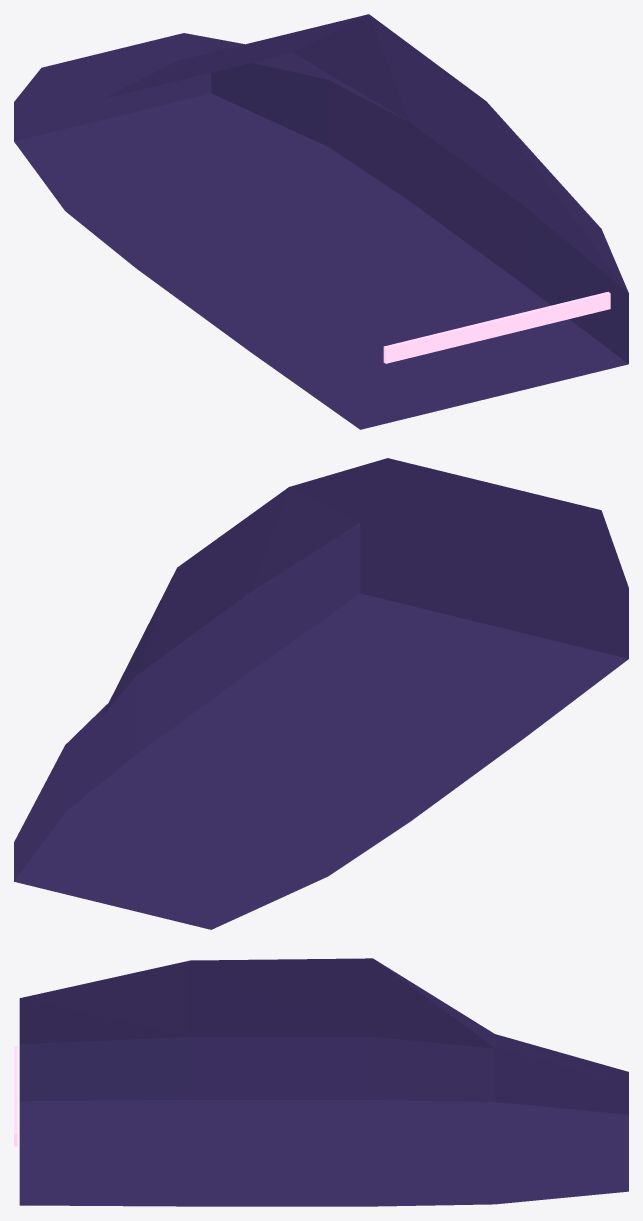
Rendered from 02_pulse_sedan.glb.
The picture shows the model from 3 angles, top to bottom: view 1: azimuth 30°, elevation 25°; view 2: azimuth 150°, elevation 25°; view 3: azimuth 270°, elevation 25°; orthographic projection. The views are drawn at different scales.
Visible parts, largest first — view 1: Pulse Sedan; view 2: Pulse Sedan; view 3: Pulse Sedan.
Boxes of the visible parts, x1,y1,x2,y2 form: Pulse Sedan: [14, 14, 628, 429]; Pulse Sedan: [14, 458, 628, 929]; Pulse Sedan: [14, 958, 628, 1206].
Bounding box in the file's own units: 2.02 × 1.39 × 4.92.
